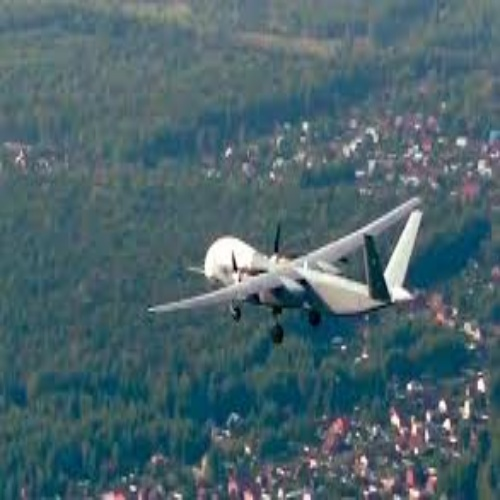uav470: (151, 195, 425, 344)
